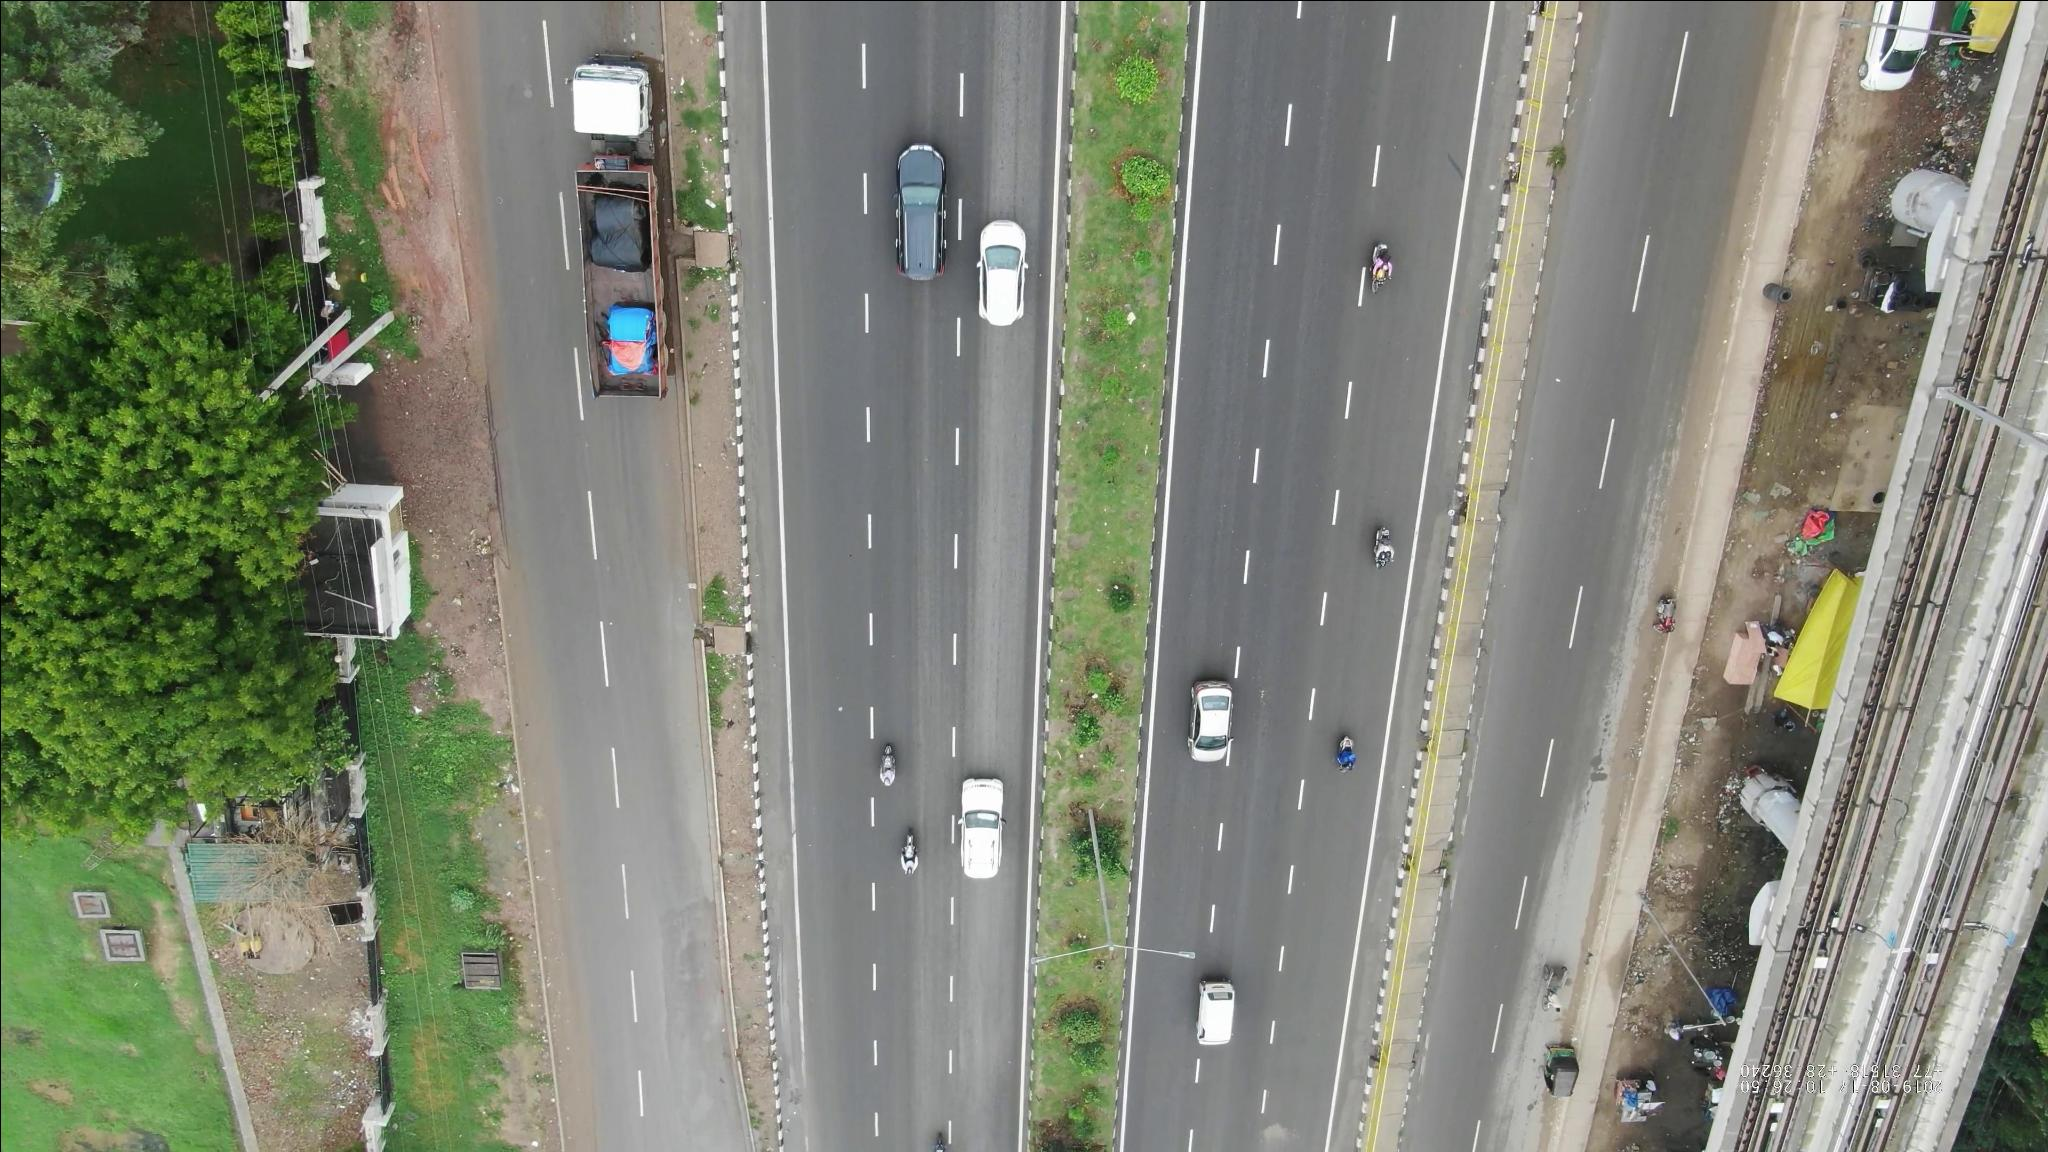Muddy_road: (1644, 397, 1726, 596), (1608, 663, 1661, 830)
